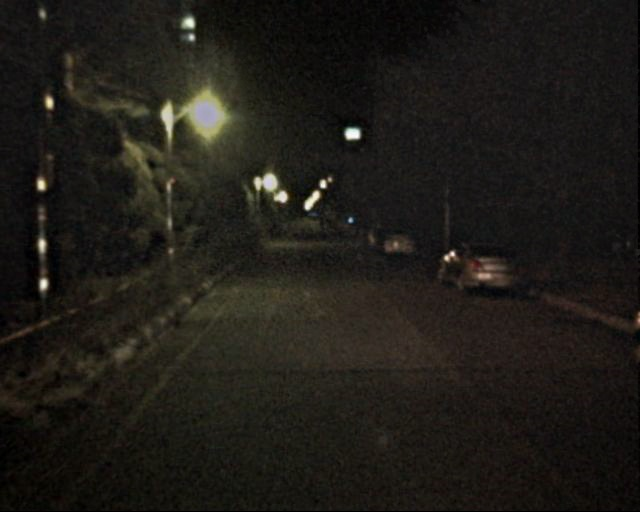person: (370, 221, 387, 263), (353, 225, 368, 261), (321, 221, 340, 238), (279, 217, 290, 243)
